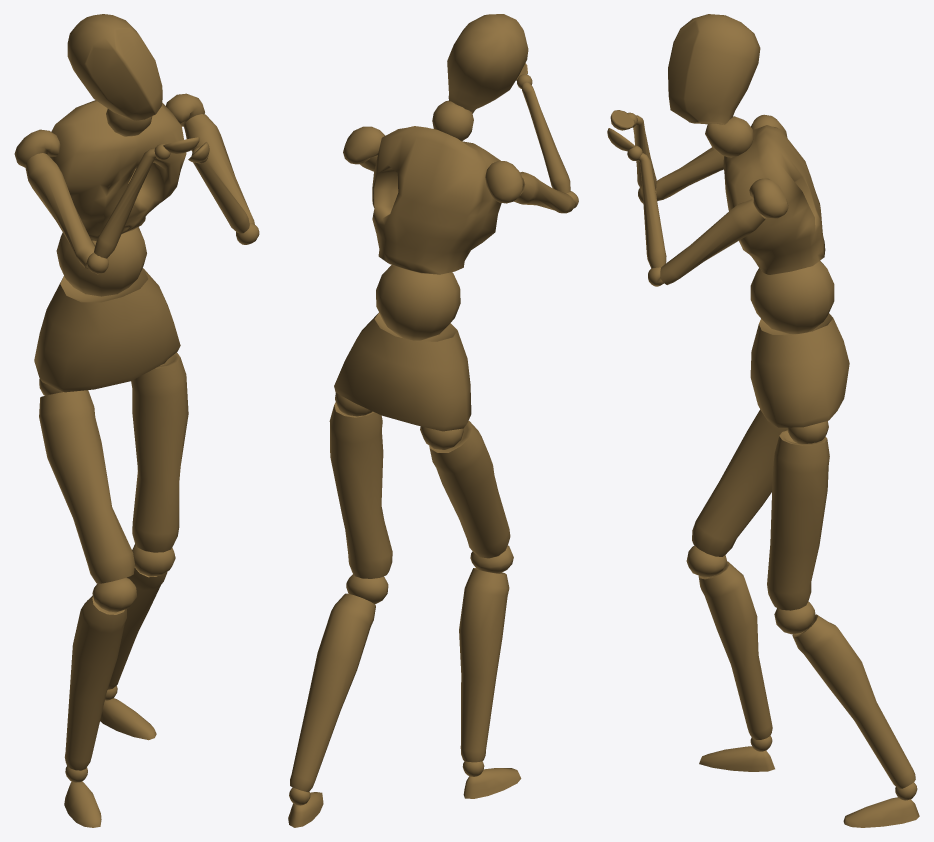
Rendered from maniqui_pose11.fbx.
The picture shows the model from 3 angles, left to right: view 1: azimuth 30°, elevation 25°; view 2: azimuth 150°, elevation 25°; view 3: azimuth 270°, elevation 25°; orthographic projection. The views are drawn at different scales.
Parts seen in each view (by area): view 1: dummy_obj.003; view 2: dummy_obj.003; view 3: dummy_obj.003.
Part boxes in pixels (bbox=[...]): dummy_obj.003: bbox=[14, 14, 259, 827]; dummy_obj.003: bbox=[288, 14, 578, 827]; dummy_obj.003: bbox=[607, 14, 919, 827].
Bounding box in the file's own units: 39.61 × 160 × 60.27.
